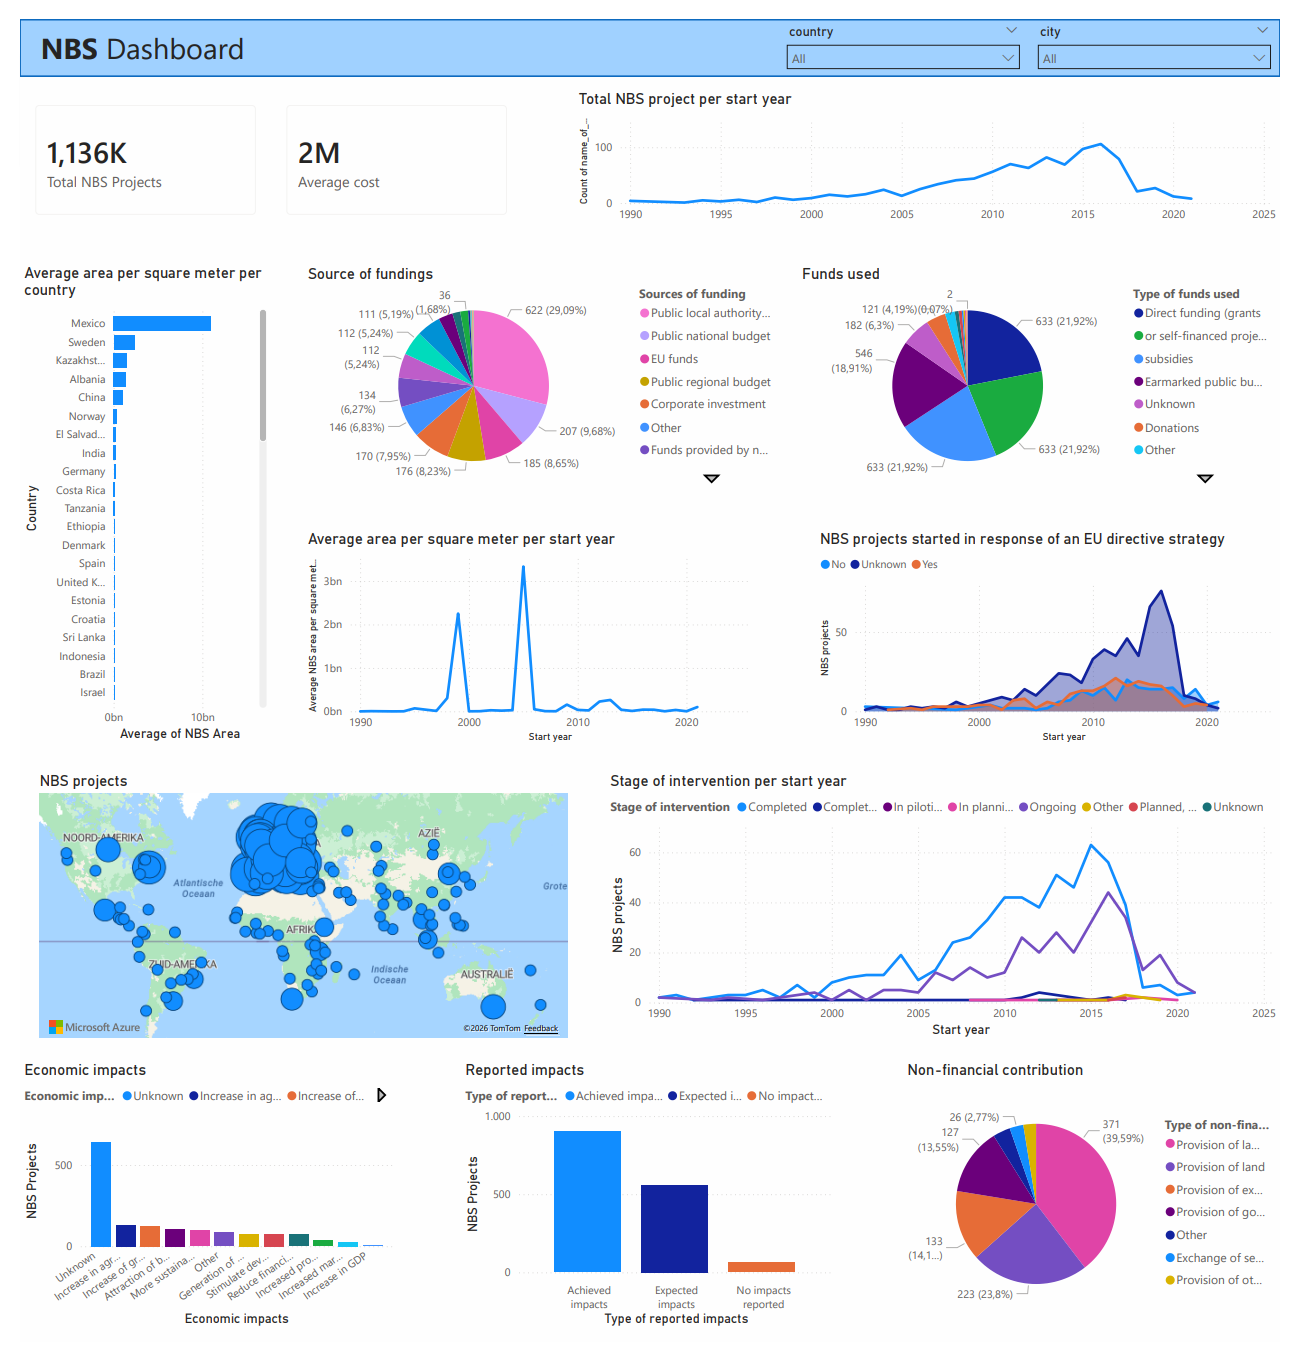

This screenshot's page, from the dashboard's own definition file:
{"tool":"powerbi","page":{"name":"Page 1","canvas":[1400,1470],"ordinal":0},"visuals":[{"type":"barChart","title":"Average area per square meter per country","fields":{"Category":["cleaned_nbs_data.country"],"Y":["Avg(cleaned_nbs_data.nbs_area_m2)"]},"box":[0,271.3,279,536],"z":0},{"type":"azureMap","title":"NBS projects","fields":{"Category":["cleaned_nbs_data.city"],"Size":["CountNonNull(cleaned_nbs_data.city)"]},"box":[16.7,835.6,596.7,300],"z":1000},{"type":"areaChart","title":"NBS projects started in response of an EU directive strategy","fields":{"Category":["cleaned_nbs_data.start_year"],"Y":["CountNonNull(cleaned_nbs_data.nbs_intervention_implemented_in_response_to_an_eu_directive_strategy)"],"Series":["cleaned_nbs_data.nbs_intervention_implemented_in_response_to_an_eu_directive_strategy"]},"box":[883.6,567,516.4,240.9],"z":2000},{"type":"lineChart","title":"Average area per square meter per start year","fields":{"Y":["Avg(cleaned_nbs_data.nbs_area_m2)"],"Category":["cleaned_nbs_data.start_year"]},"box":[315.5,567,503.6,240.9],"z":3000},{"type":"lineChart","title":"Stage of intervention per start year","fields":{"Series":["cleaned_nbs_data.present_stage_of_the_intervention"],"Category":["cleaned_nbs_data.start_year"],"Y":["CountNonNull(cleaned_nbs_data.present_stage_of_the_intervention)"]},"box":[650.9,836.1,749.1,300],"z":4000},{"type":"pieChart","title":"Funds used","fields":{"Category":["long_type_of_funds_used.type_of_funds_used"],"Y":["CountNonNull(long_type_of_funds_used.name_of_the_nbs_intervention_short_english_title)"]},"box":[863.6,271.5,536.4,251.8],"z":5000},{"type":"pieChart","title":"Source of fundings","fields":{"Category":["long_sources_of_funding.sources_of_funding"],"Y":["CountNonNull(long_sources_of_funding.name_of_the_nbs_intervention_short_english_title)"]},"box":[315.5,271.5,536.4,251.8],"z":6000},{"type":"lineChart","title":"Total NBS project per start year","fields":{"Category":["cleaned_nbs_data.start_year"],"Y":["CountNonNull(cleaned_nbs_data.name_of_the_nbs_intervention_short_english_title)"]},"box":[616.3,78.4,783.6,155.5],"z":7000},{"type":"cardVisual","fields":{"Data":["CountNonNull(cleaned_nbs_data.native_title_of_the_nbs_intervention)"]},"box":[-0.1,78.4,279.1,155.5],"z":8000},{"type":"cardVisual","fields":{"Data":["cleaned_nbs_data.Measure"]},"box":[279,78.4,279.1,155.5],"z":9000},{"type":"shape","box":[0,0,1400,63.3],"z":10000},{"type":"slicer","fields":{"Values":["cleaned_nbs_data.country"]},"box":[842.2,0,278.9,63.3],"z":11000},{"type":"slicer","fields":{"Values":["cleaned_nbs_data.city"]},"box":[1121.1,0,278.9,63.3],"z":12000},{"type":"textbox","box":[17.8,4.4,595.6,55.6],"z":13000},{"type":"columnChart","title":"Economic impacts","fields":{"Category":["long_economic_impacts.economic_impacts"],"Series":["long_economic_impacts.economic_impacts"],"Y":["Count(long_economic_impacts.name_of_the_nbs_intervention_short_english_title)"]},"box":[0,1156.7,418.9,300],"z":14000},{"type":"columnChart","title":"Reported impacts","fields":{"Y":["CountNonNull(long_type_of_reported_impacts.name_of_the_nbs_intervention_short_english_title)"],"Category":["long_type_of_reported_impacts.type_of_reported_impacts"],"Series":["long_type_of_reported_impacts.type_of_reported_impacts"]},"box":[490,1156.7,418.9,300],"z":15000},{"type":"pieChart","title":"Non-financial contribution","fields":{"Category":["long_type_of_non_financial_contribution.type_of_non_financial_contribution"],"Y":["CountNonNull(long_type_of_non_financial_contribution.name_of_the_nbs_intervention_short_english_title)"]},"box":[981.1,1156.7,418.9,300],"z":16000}]}

Visuals, with their boxes in screenshot pixels (x1, y1, x2, y2), scaled from the page's 1400x1470 canvas onto the 1298x1359 screenshot:
"Average area per square meter per country" barChart: [x1=0, y1=251, x2=259, y2=746]
"NBS projects" azureMap: [x1=15, y1=773, x2=569, y2=1050]
"NBS projects started in response of an EU directive strategy" areaChart: [x1=819, y1=524, x2=1297, y2=747]
"Average area per square meter per start year" lineChart: [x1=293, y1=524, x2=759, y2=747]
"Stage of intervention per start year" lineChart: [x1=603, y1=773, x2=1297, y2=1050]
"Funds used" pieChart: [x1=801, y1=251, x2=1297, y2=484]
"Source of fundings" pieChart: [x1=293, y1=251, x2=790, y2=484]
"Total NBS project per start year" lineChart: [x1=571, y1=72, x2=1297, y2=216]
cardVisual - CountNonNull(cleaned_nbs_data.native_title_of_the_nbs_intervention): [x1=0, y1=72, x2=259, y2=216]
cardVisual - cleaned_nbs_data.Measure: [x1=259, y1=72, x2=517, y2=216]
shape: [x1=0, y1=0, x2=1297, y2=59]
slicer - cleaned_nbs_data.country: [x1=781, y1=0, x2=1039, y2=59]
slicer - cleaned_nbs_data.city: [x1=1039, y1=0, x2=1297, y2=59]
textbox: [x1=17, y1=4, x2=569, y2=55]
"Economic impacts" columnChart: [x1=0, y1=1069, x2=388, y2=1347]
"Reported impacts" columnChart: [x1=454, y1=1069, x2=843, y2=1347]
"Non-financial contribution" pieChart: [x1=910, y1=1069, x2=1297, y2=1347]
